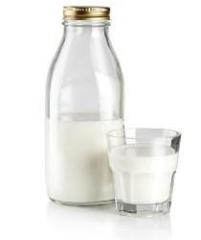glass: (46, 5, 128, 209), (107, 126, 183, 218)
